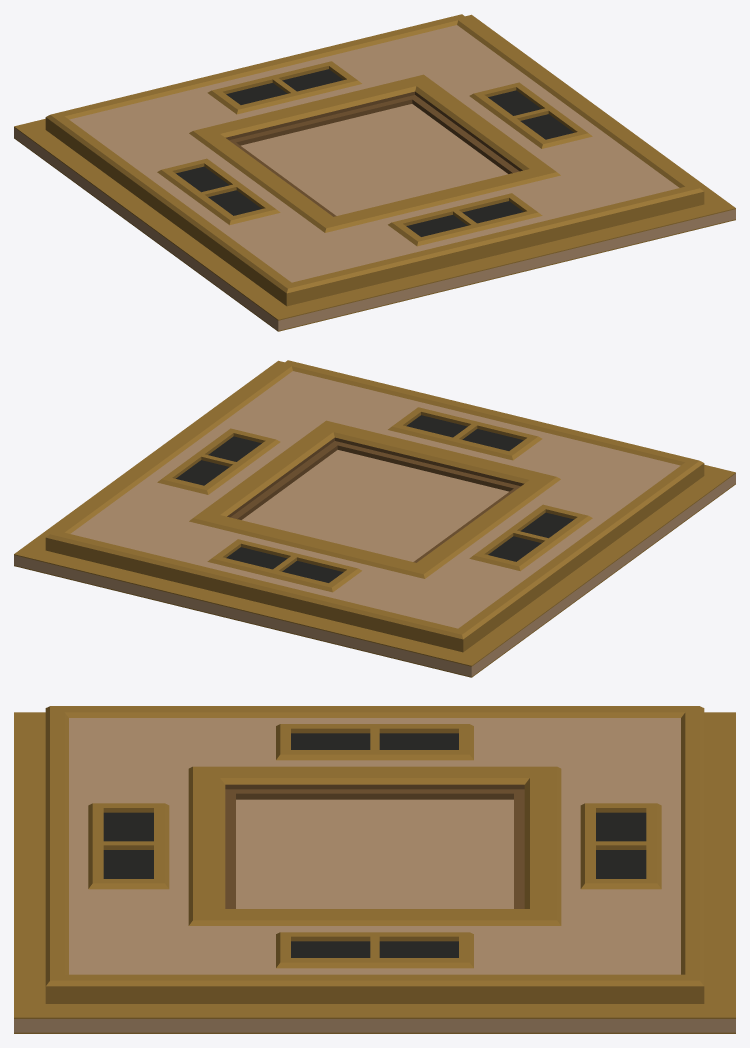
Rendered from coffered-ceiling-panel-b3510f.glb.
The picture shows the model from 3 angles, top to bottom: view 1: azimuth 30°, elevation 25°; view 2: azimuth 150°, elevation 25°; view 3: azimuth 270°, elevation 25°; orthographic projection. The views are drawn at different scales.
Parts seen in each view (by area): view 1: coffered-ceiling-panel; view 2: coffered-ceiling-panel; view 3: coffered-ceiling-panel.
Part boxes in pixels (x1=…): coffered-ceiling-panel: x1=14, y1=14, x2=735, y2=331; coffered-ceiling-panel: x1=14, y1=360, x2=735, y2=677; coffered-ceiling-panel: x1=14, y1=706, x2=735, y2=1033.
Size of the model in its own units: 2 by 0.116 by 2.
